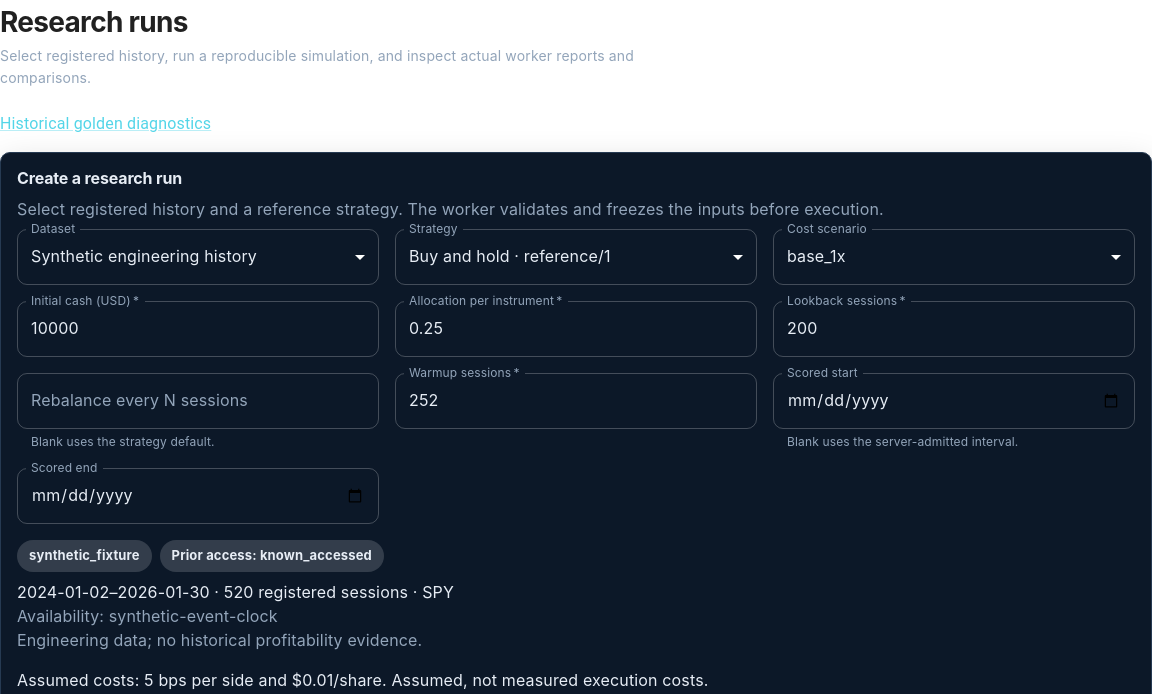
Test: actual research run workflow › selects a registered real sample and posts the exact catalog identity and configuration
Select "Imported five-session sample" in the dropdown labelled "Dataset" at (198, 257), box [17,229,379,285]
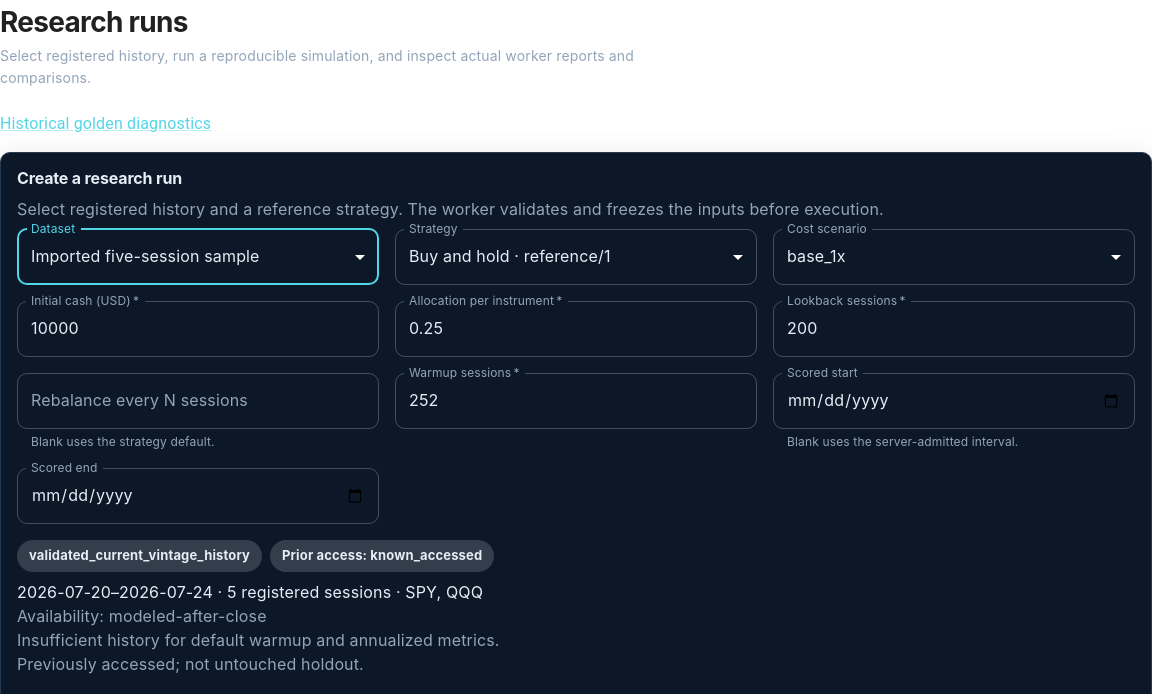
Check: the text "Insufficient history for default warmup and annualized metrics." is shown, box [17,630,500,650]
Replace the text in the field labelled "Initial cash (USD) *" with "10000.1234567890" at (198, 329), box [17,301,379,357]
(page scrolled)
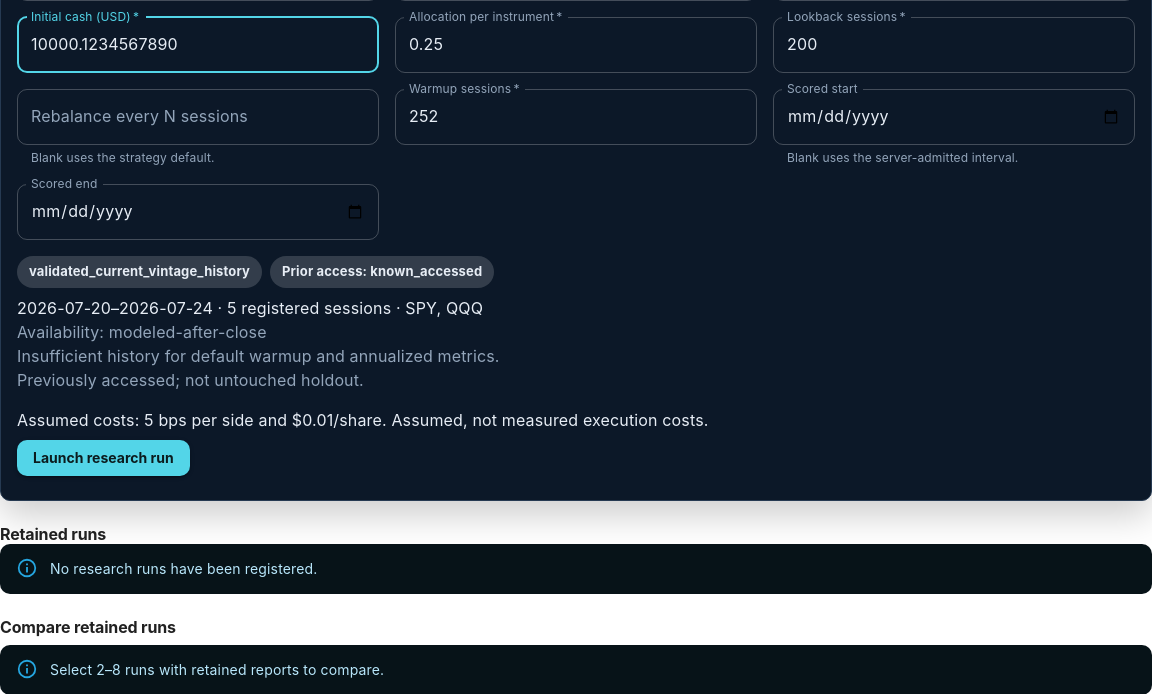
Click the button "Launch research run".
click(103, 458)  # box [17,440,190,476]
(page scrolled)
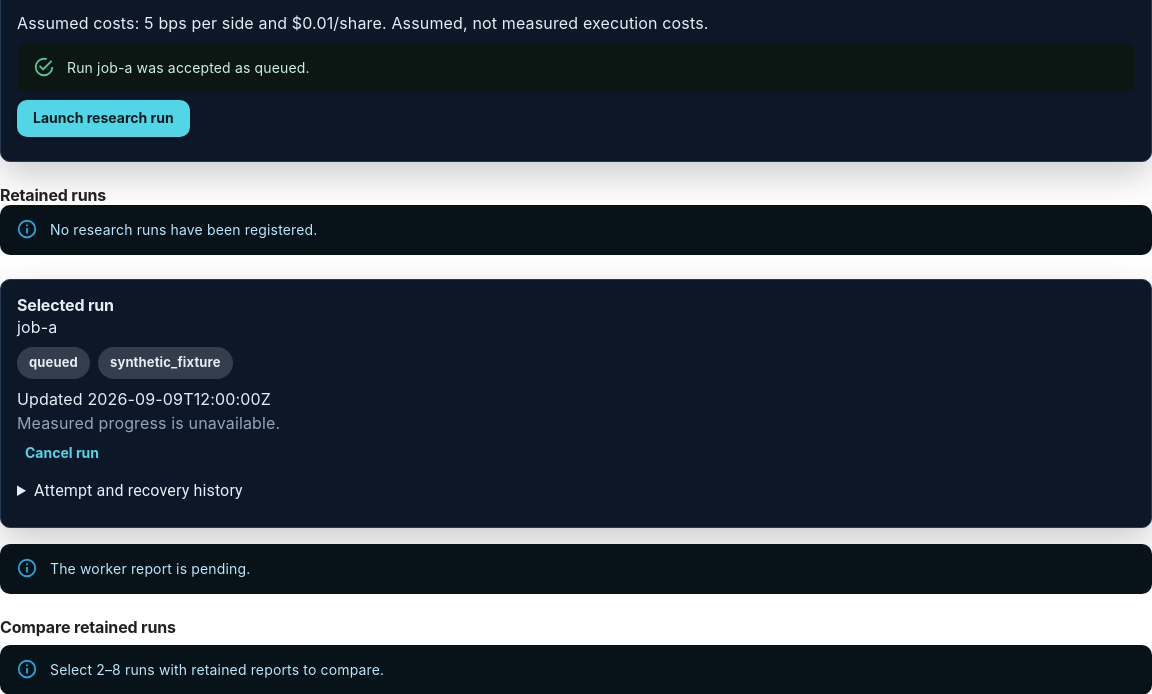
Check: the text "Run job-a was accepted as queued." is shown, box [67,59,310,76]
Check: the text "The worker report is pending." is shown, box [50,560,250,577]
